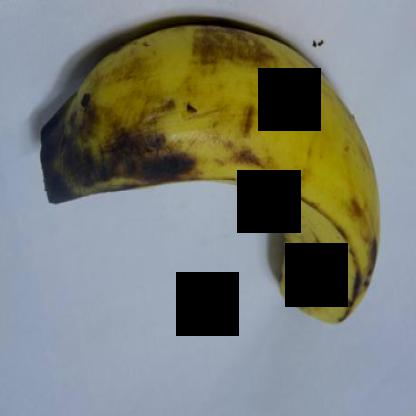ripe: (14, 1, 387, 341)
